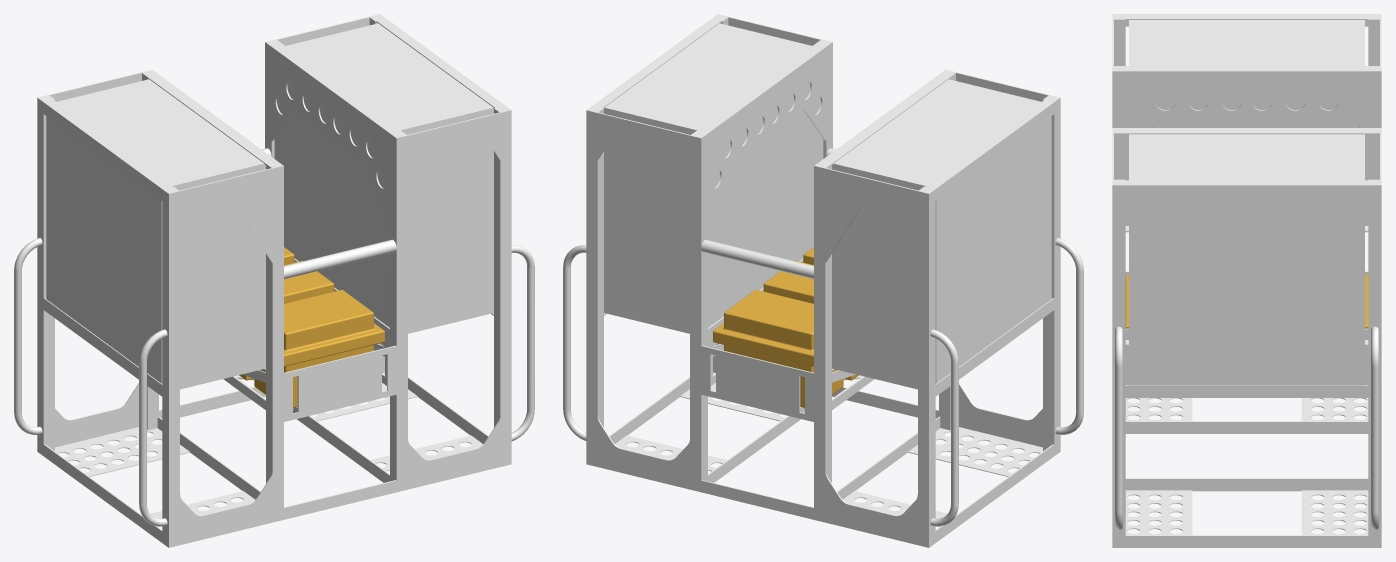
The model's file is inkfish-lander.dae.
3 views of the same model, side by side, from view 1: azimuth 30°, elevation 25°; view 2: azimuth 150°, elevation 25°; view 3: azimuth 270°, elevation 25° (orthographic). The views are drawn at different scales.
Visible parts, largest first — view 1: Body1.002, Body1.001, Body1, Body1.005, Body1.004; view 2: Body1.002, Body1.001, Body1, Body1.003, Body1.004; view 3: Body1, Body1.002, Body1.001.
Part boxes in pixels (x1,y1,x2,y2): Body1.002: (14,14,534,547); Body1.001: (46,79,265,389); Body1: (274,23,493,333); Body1.005: (254,290,384,407); Body1.004: (239,260,334,380); Body1.002: (563,14,1083,547); Body1.001: (832,79,1051,389); Body1: (604,23,823,333); Body1.003: (713,290,843,407); Body1.004: (763,260,858,380); Body1: (1129,134,1364,385); Body1.002: (1112,14,1381,547); Body1.001: (1129,20,1364,127).
Size of the model in its own units: 1.75 by 1.01 by 1.5.
